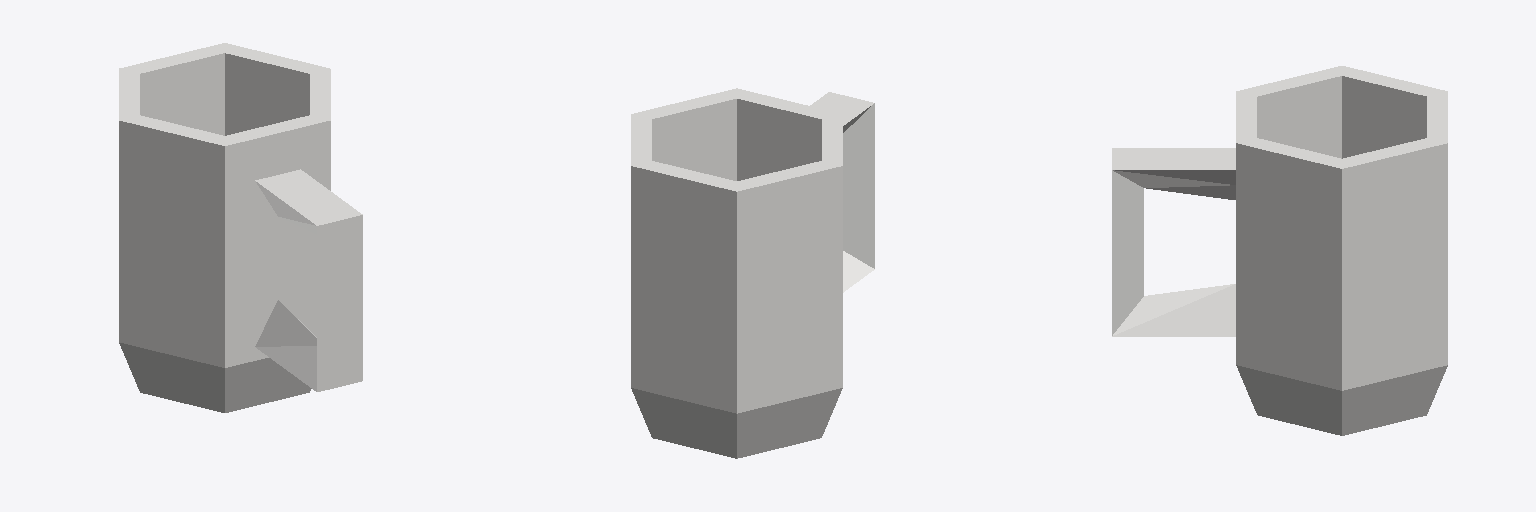
The model's file is Cup.obj.
3 views of the same model, side by side, from view 1: azimuth 30°, elevation 25°; view 2: azimuth 150°, elevation 25°; view 3: azimuth 270°, elevation 25° (orthographic).
Parts seen in each view (by area): view 1: object_2, object_1; view 2: object_2, object_1; view 3: object_2, object_1.
Part boxes in pixels (bbox=[...]): object_2: bbox=[119, 43, 330, 412]; object_1: bbox=[255, 169, 362, 391]; object_2: bbox=[631, 88, 842, 458]; object_1: bbox=[810, 92, 874, 292]; object_2: bbox=[1236, 66, 1447, 435]; object_1: bbox=[1112, 148, 1235, 336].
Size of the model in its own units: 8 by 10 by 10.99.